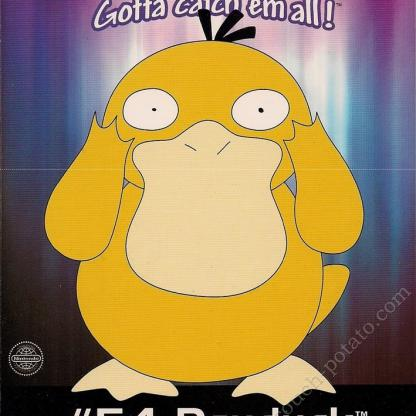Psyduck: (50, 21, 371, 406)
